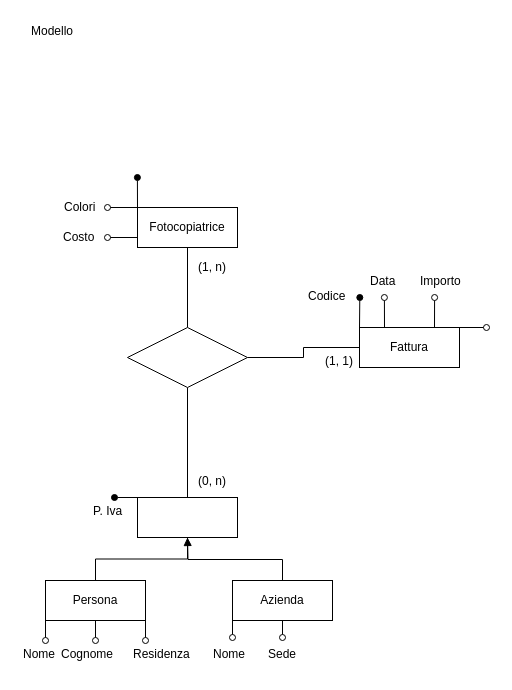
Some shapes in this 512 by 690 pixel diagram are drawn without their labels. Here are the shapes that lost their labels. From the top down, the box of each, then its label:
(126, 326, 248, 388): Acquisto
(136, 496, 238, 538): Cliente
